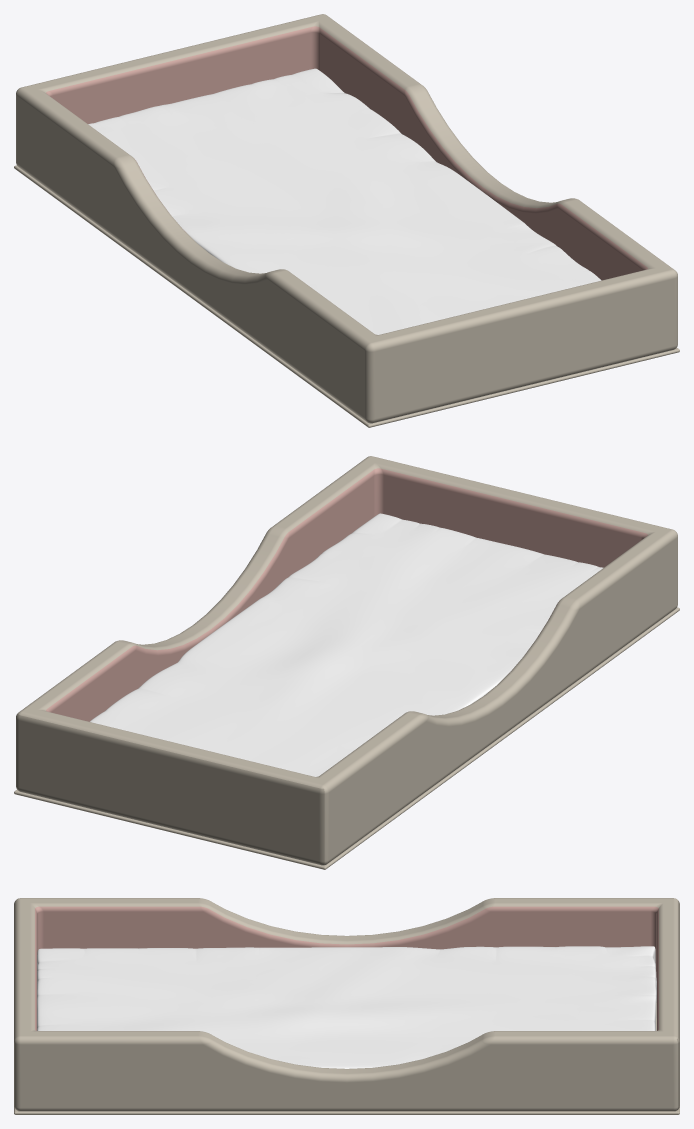
The picture shows the model from 3 angles, top to bottom: view 1: azimuth 30°, elevation 25°; view 2: azimuth 150°, elevation 25°; view 3: azimuth 270°, elevation 25°; orthographic projection. The views are drawn at different scales.
Visible parts, largest first — view 1: root; view 2: root; view 3: root.
Boxes of the visible parts, box(x1,y1,x2,y2) form: root: box(14, 14, 679, 427); root: box(14, 456, 679, 869); root: box(14, 898, 679, 1114).
Bounding box in the file's own units: 1.02 × 0.2555 × 2.01.
